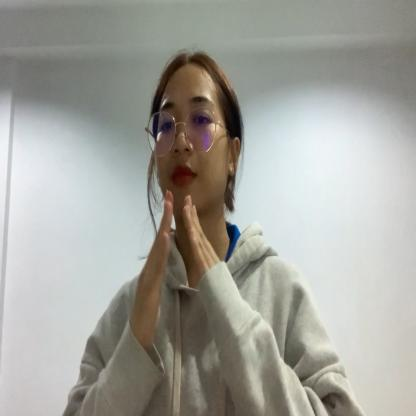Thank you: (137, 186, 240, 358)
